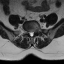CCS_normal: (30, 30, 32, 38)
LFS_stenosis: (34, 28, 37, 34)
LLS_normal: (32, 30, 34, 36)
RFS_severe_stenosis: (26, 28, 28, 34)
RLS_normal: (28, 30, 30, 36)
